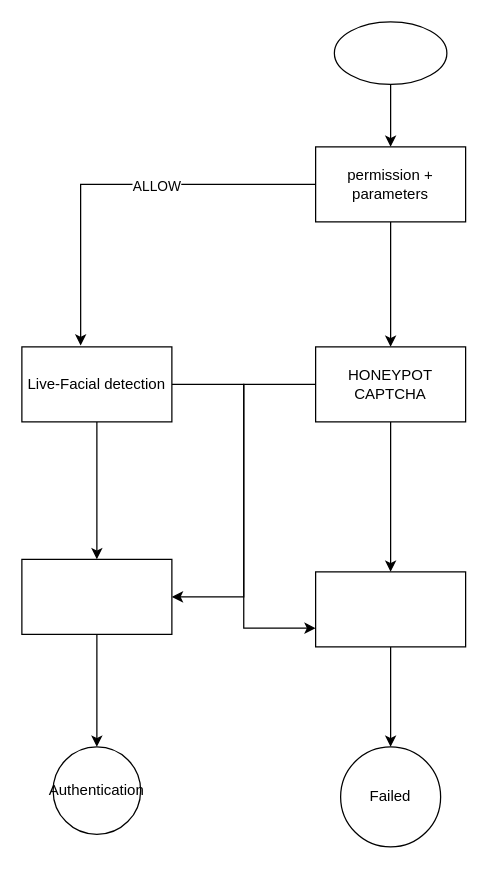
Image size: 488x869. Some labels were removed from this diagram. The centre of each missing label's shape, as x and y in pixels:
"Bot" goes at (x=390, y=609).
"Human" goes at (x=96, y=596).
"Start" goes at (x=390, y=52).
